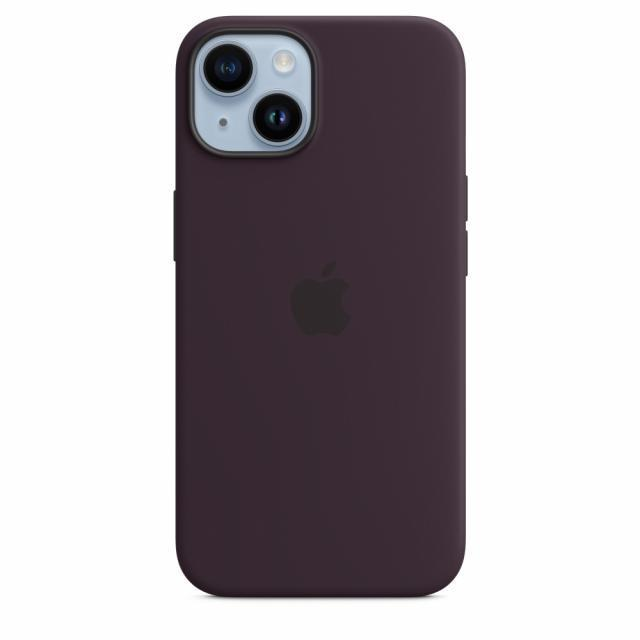phone: (172, 14, 469, 598)
